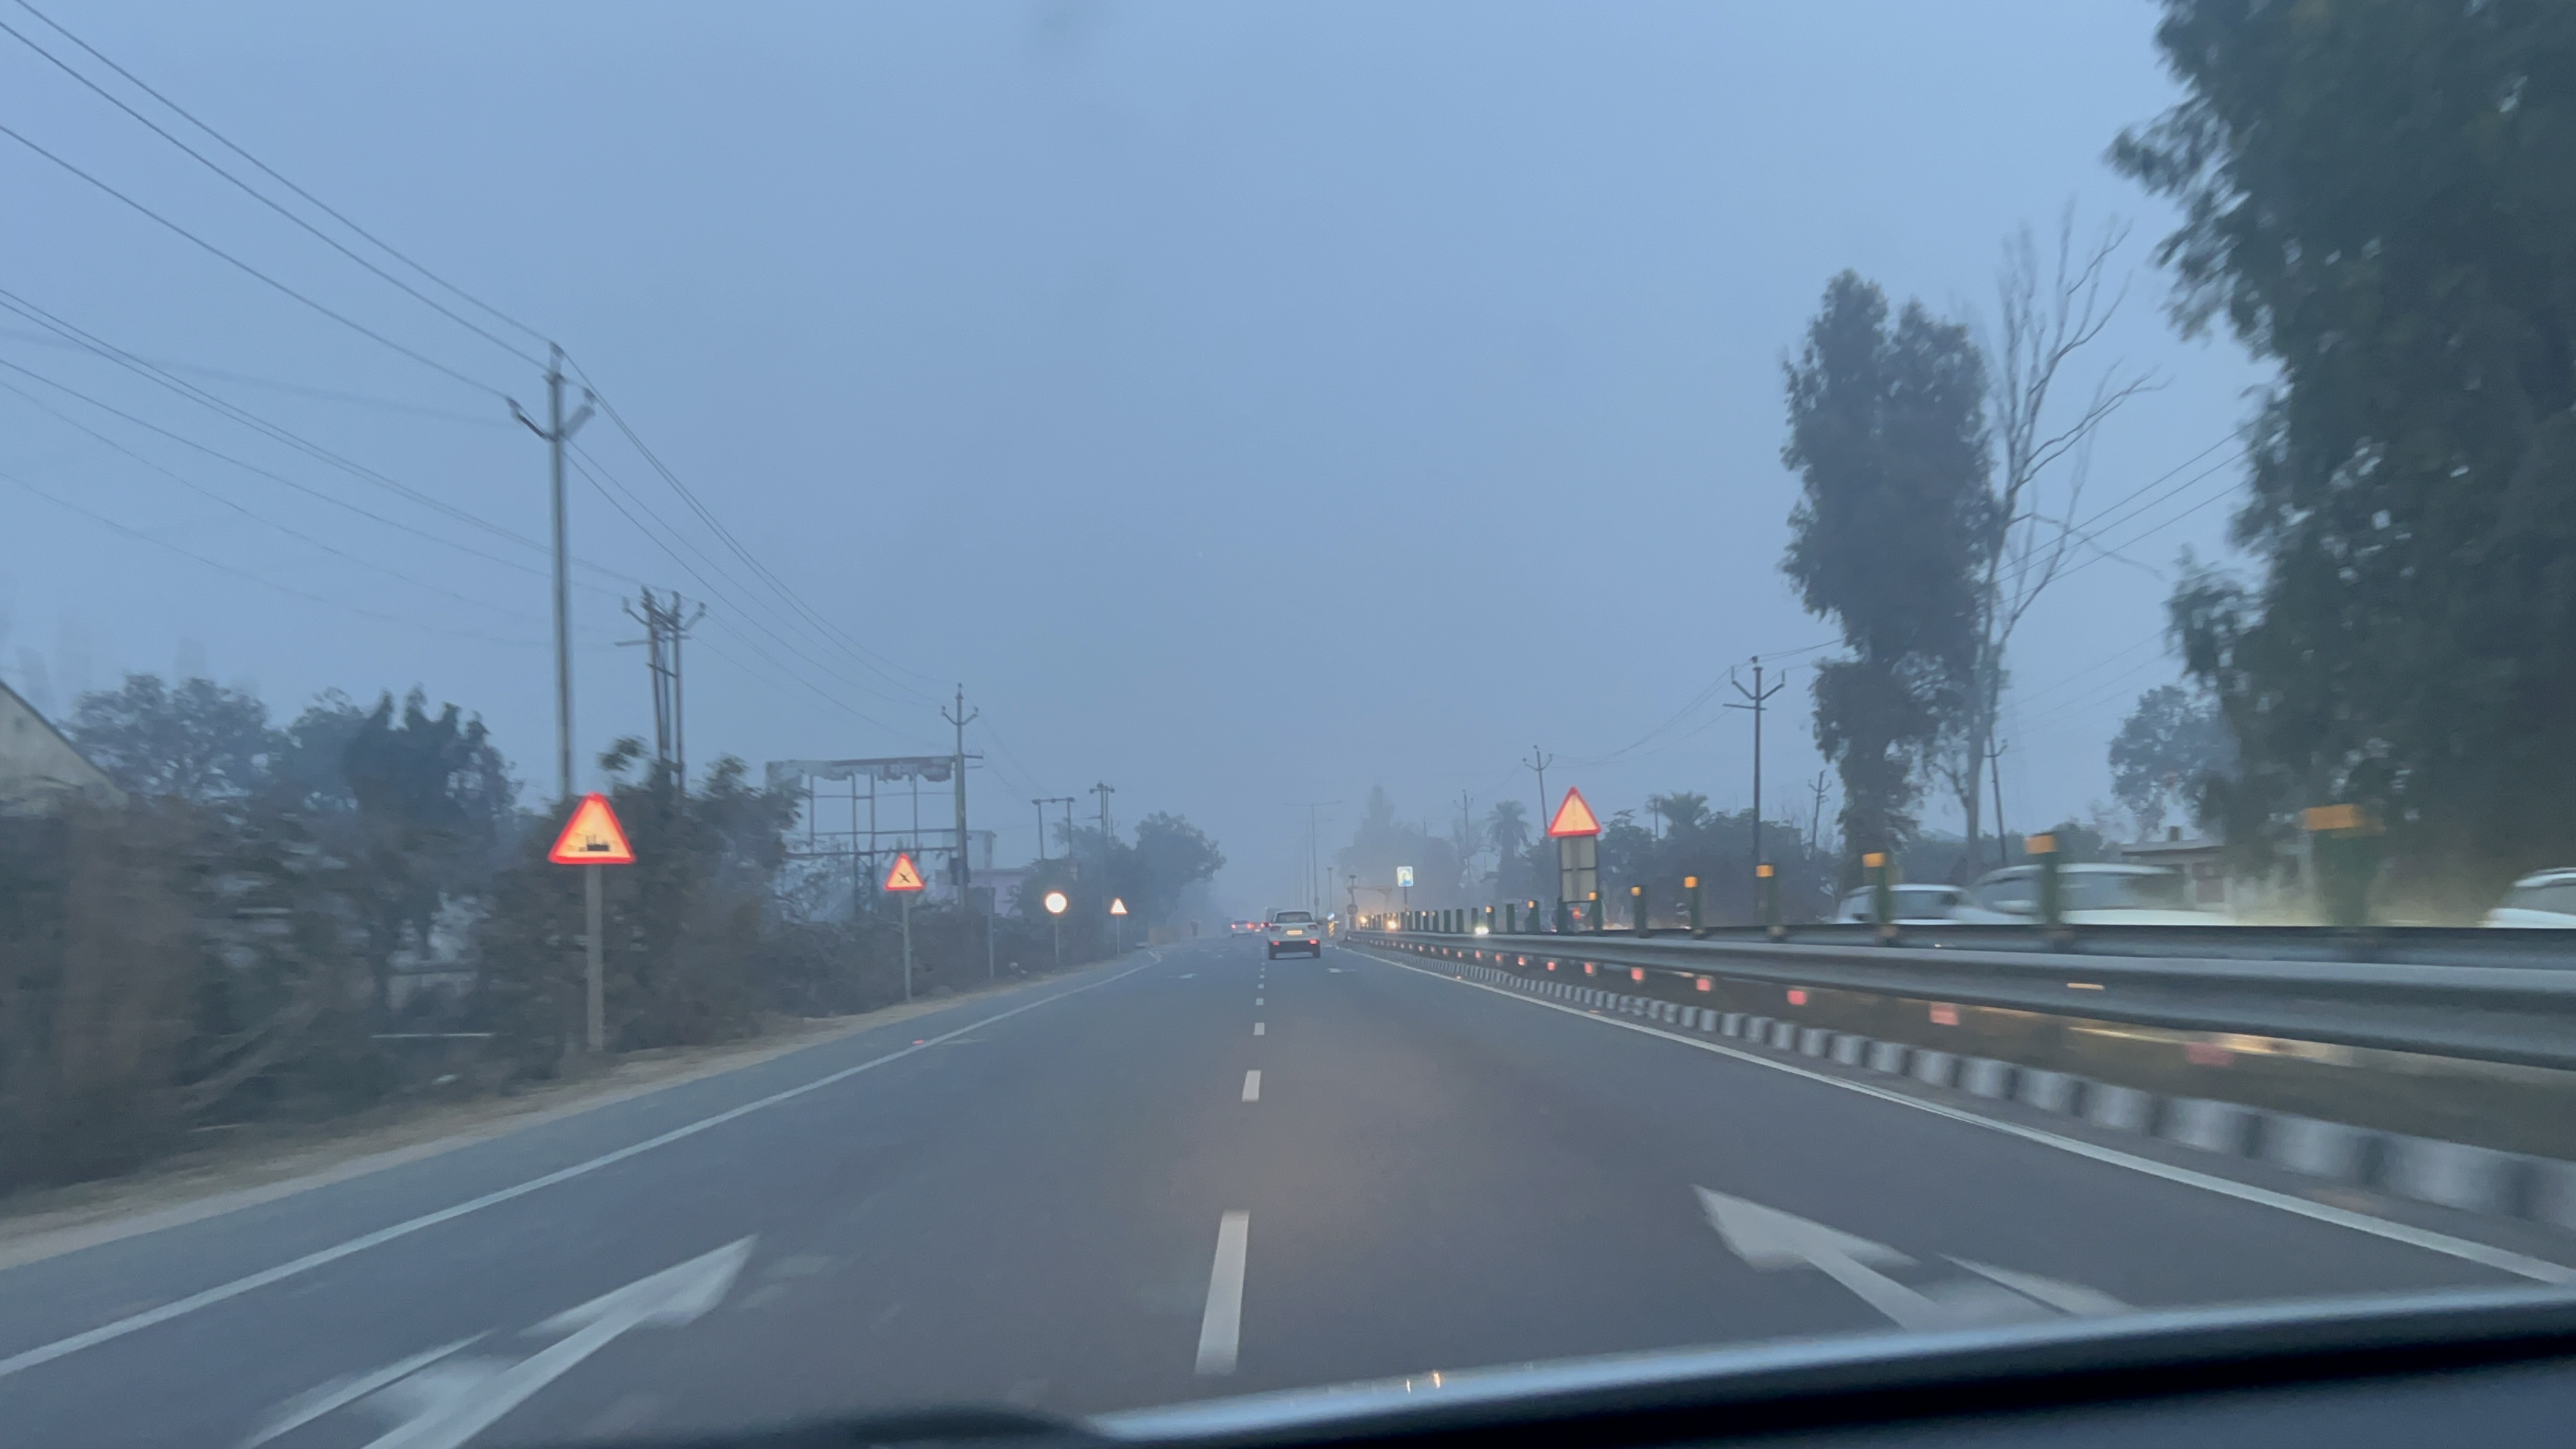Informatory: (1397, 867, 1414, 885)
Mandatory: (1043, 888, 1068, 917)
Regulatory: (1324, 911, 1339, 924)
Warning: (548, 785, 641, 869), (1545, 782, 1602, 842), (883, 848, 925, 893), (1104, 894, 1131, 919)
